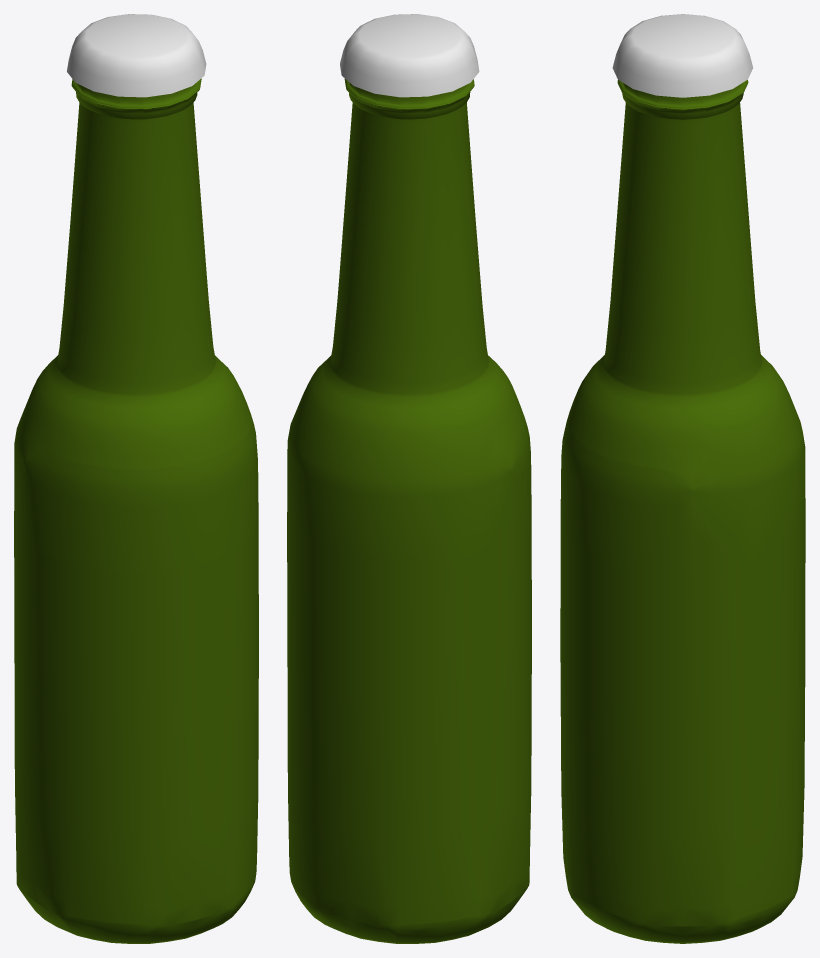
Rendered from GlassBottle.fbx.
The picture shows the model from 3 angles, left to right: view 1: azimuth 30°, elevation 25°; view 2: azimuth 150°, elevation 25°; view 3: azimuth 270°, elevation 25°; orthographic projection.
Visible parts, largest first — view 1: Cylinder, Cylinder.001; view 2: Cylinder, Cylinder.001; view 3: Cylinder, Cylinder.001.
Boxes of the visible parts, x1,y1,x2,y2 form: Cylinder: (14,78,258,943); Cylinder.001: (67,14,206,97); Cylinder: (287,78,531,943); Cylinder.001: (340,14,479,97); Cylinder: (560,80,805,943); Cylinder.001: (612,14,752,97).
Bounding box in the file's own units: 197 × 764 × 195.
